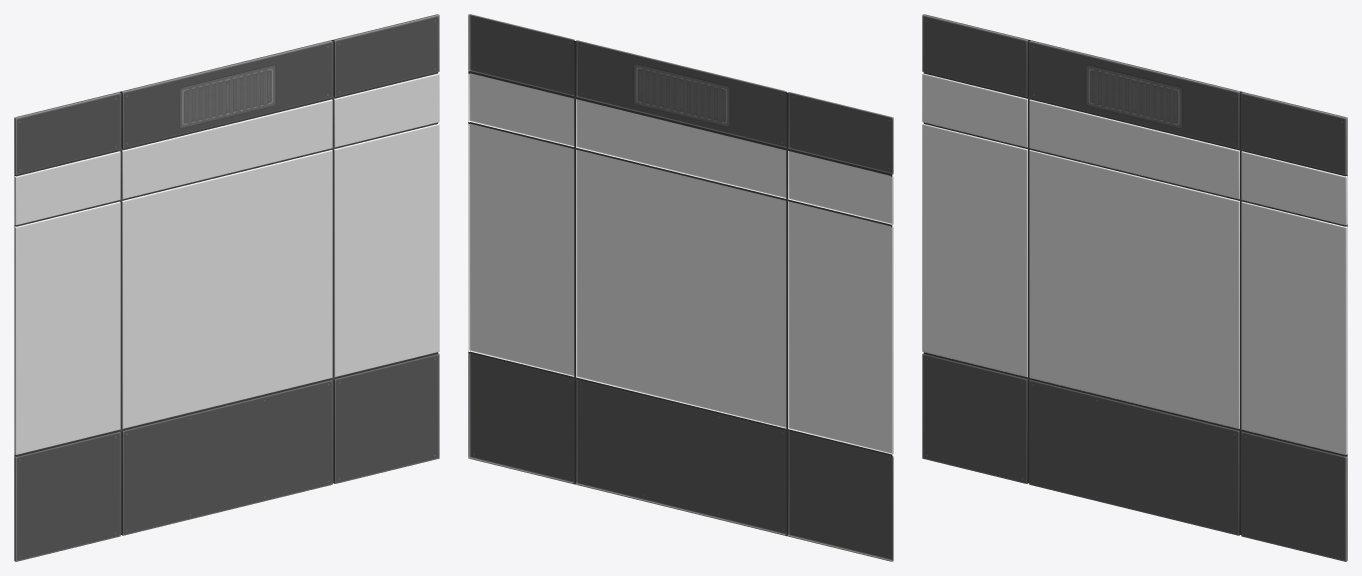
File: MWall12-2-350x350-1.FBX
The picture shows the model from 3 angles, left to right: view 1: azimuth 30°, elevation 25°; view 2: azimuth 150°, elevation 25°; view 3: azimuth 330°, elevation 25°; orthographic projection.
Visible parts, largest first — view 1: MWall12-2-350x350-1; view 2: MWall12-2-350x350-1; view 3: MWall12-2-350x350-1.
Boxes of the visible parts, <box> form: MWall12-2-350x350-1: <box>14,14,439,561</box>; MWall12-2-350x350-1: <box>468,14,893,561</box>; MWall12-2-350x350-1: <box>922,14,1347,561</box>.
Size of what is drawn, in the model's own units: 3.5 by 3.5 by 0.0203.
